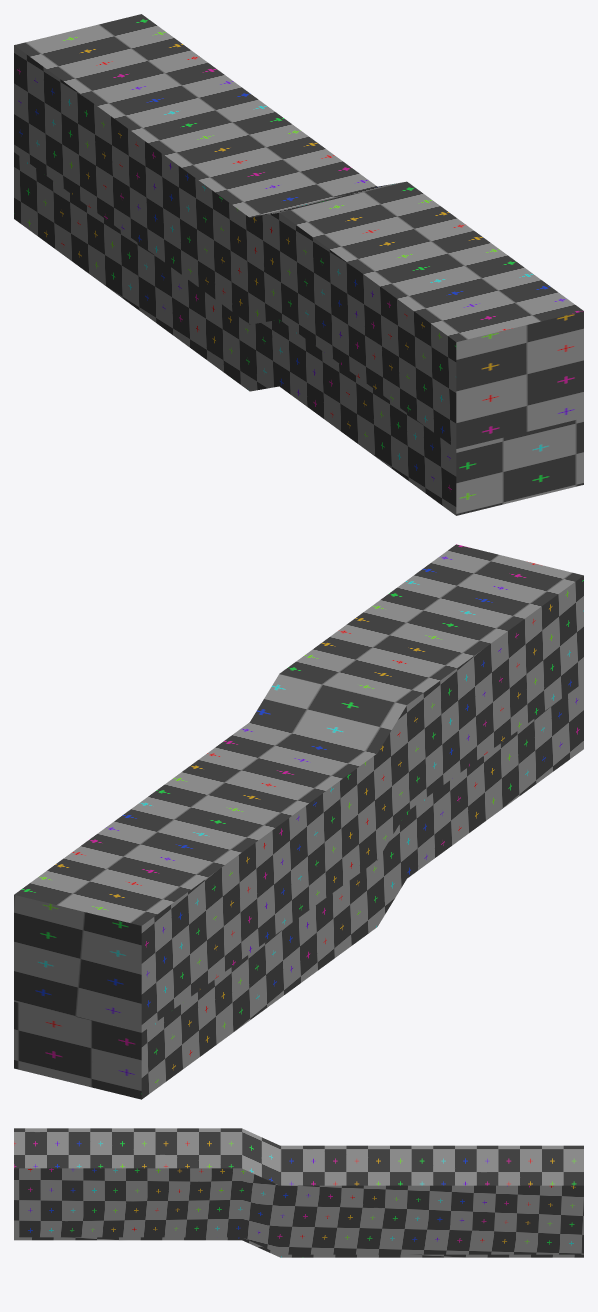
File: scenario_prototype_interior_exit_basement.fbx
3 renders of one model, top to bottom at view 1: azimuth 30°, elevation 25°; view 2: azimuth 150°, elevation 25°; view 3: azimuth 270°, elevation 25°, orthographic. The views are drawn at different scales.
Parts seen in each view (by area): view 1: interior_exit_basement; view 2: interior_exit_basement; view 3: interior_exit_basement.
Part boxes in pixels (bbox=[...]): interior_exit_basement: bbox=[14, 14, 583, 515]; interior_exit_basement: bbox=[14, 544, 583, 1099]; interior_exit_basement: bbox=[14, 1128, 583, 1257].
Bounding box in the file's own units: 500 × 750 × 3000.
